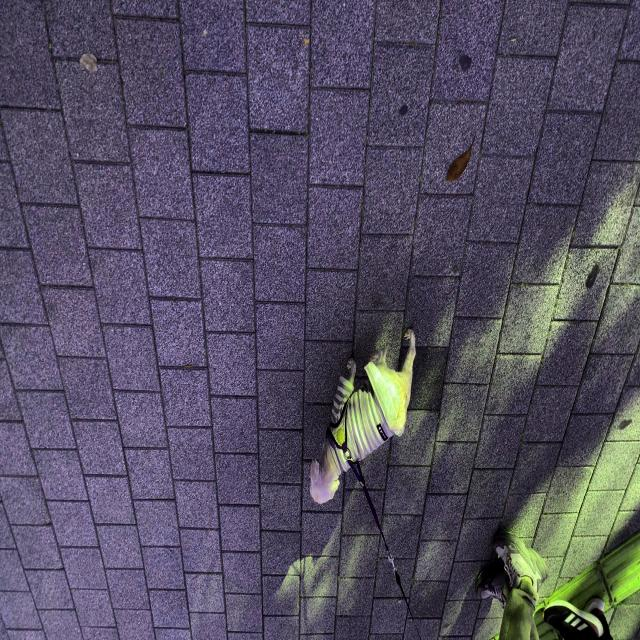Dog: (223, 132, 331, 315)
